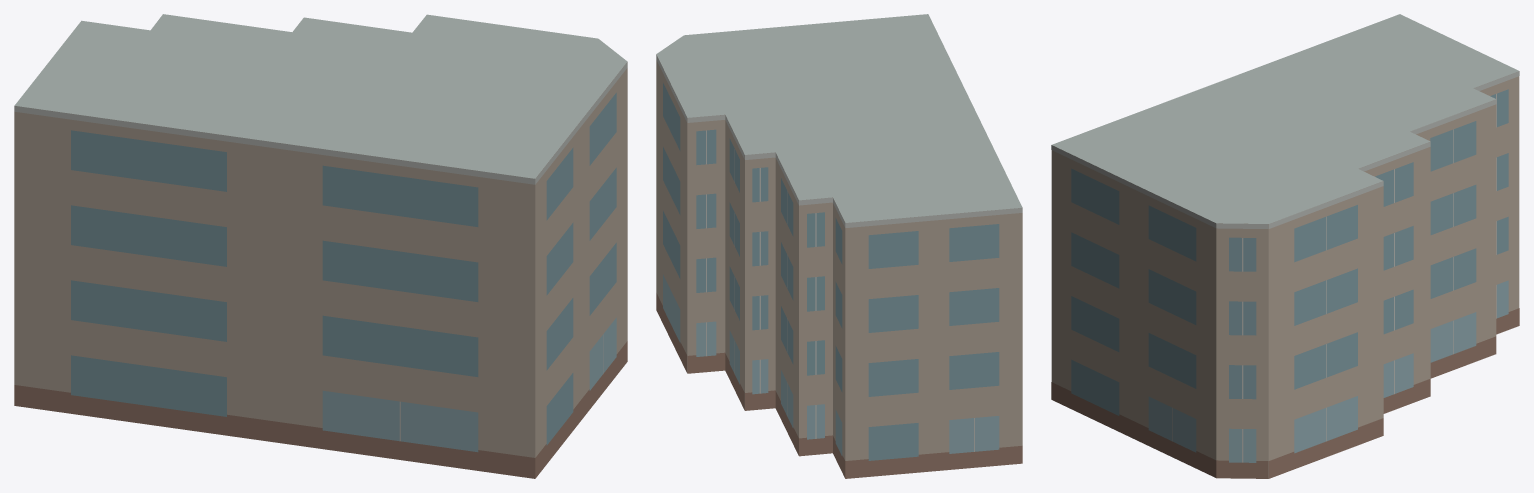
The model's file is residential-c439f6d7-2bf1-41cb-825e-aeb6156f6fa3.glb.
3 renders of one model, left to right at view 1: azimuth 30°, elevation 25°; view 2: azimuth 150°, elevation 25°; view 3: azimuth 270°, elevation 25°, orthographic. The views are drawn at different scales.
Visible parts, largest first — view 1: residential-c439f6d7-2bf1-41cb-825e-aeb6156f6fa3.tmp; view 2: residential-c439f6d7-2bf1-41cb-825e-aeb6156f6fa3.tmp; view 3: residential-c439f6d7-2bf1-41cb-825e-aeb6156f6fa3.tmp.
Boxes of the visible parts, x1,y1,x2,y2 form: residential-c439f6d7-2bf1-41cb-825e-aeb6156f6fa3.tmp: (14,14,627,478); residential-c439f6d7-2bf1-41cb-825e-aeb6156f6fa3.tmp: (656,14,1022,478); residential-c439f6d7-2bf1-41cb-825e-aeb6156f6fa3.tmp: (1051,14,1519,478).
Bounding box in the file's own units: 21.58 × 12.2 × 20.31.
